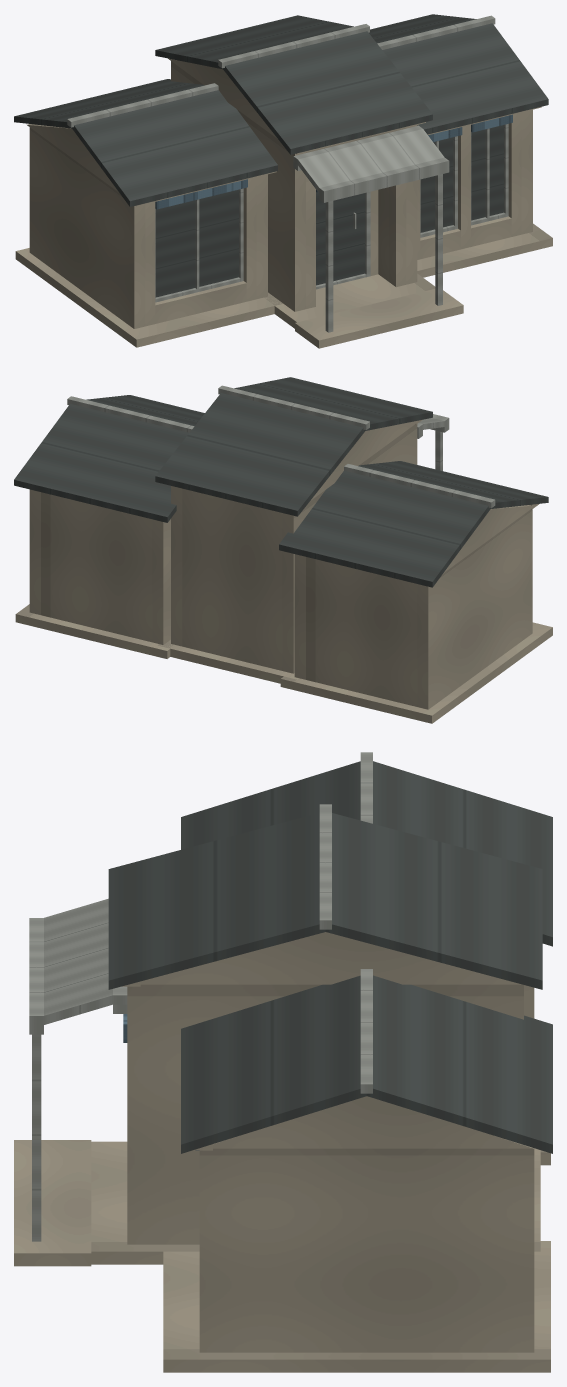
The picture shows the model from 3 angles, top to bottom: view 1: azimuth 30°, elevation 25°; view 2: azimuth 150°, elevation 25°; view 3: azimuth 270°, elevation 25°; orthographic projection. The views are drawn at different scales.
Visible parts, largest first — view 1: berlin; view 2: berlin; view 3: berlin.
Boxes of the visible parts, x1,y1,x2,y2 form: berlin: (14, 14, 552, 348); berlin: (14, 377, 552, 723); berlin: (14, 752, 552, 1372).
Bounding box in the file's own units: 7.58 × 3.7 × 5.2.
Materials: 1 (1 with a texture image).
